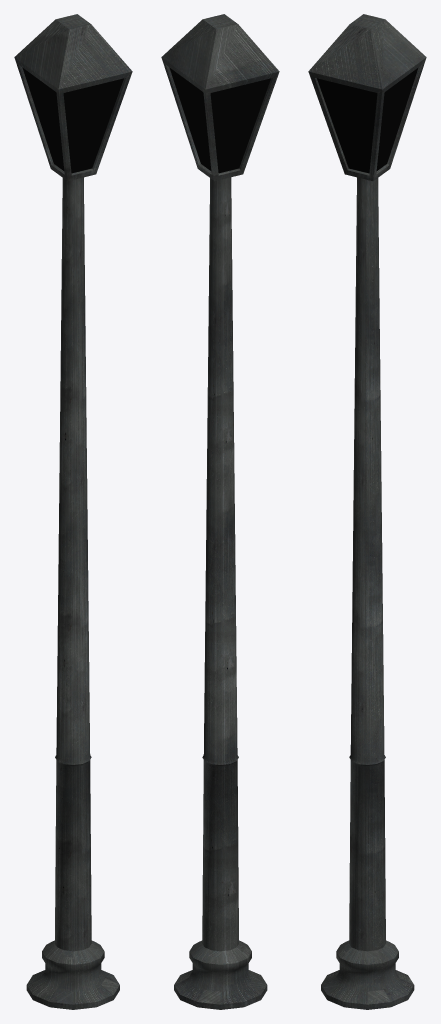
Rendered from Lamp_Post.obj.
3 views of the same model, side by side, from view 1: azimuth 30°, elevation 25°; view 2: azimuth 210°, elevation 25°; view 3: azimuth 330°, elevation 25° (orthographic).
Visible parts, largest first — view 1: ENT_LampPost; view 2: ENT_LampPost; view 3: ENT_LampPost.
Part boxes in pixels (x1=…): ENT_LampPost: x1=14, y1=14, x2=132, y2=1009; ENT_LampPost: x1=161, y1=14, x2=279, y2=1009; ENT_LampPost: x1=308, y1=14, x2=426, y2=1009.
Size of the model in its own units: 46.86 by 537 by 46.86.
Materials: 2 (2 with a texture image).
